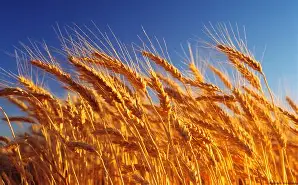crops: (0, 20, 290, 179)
